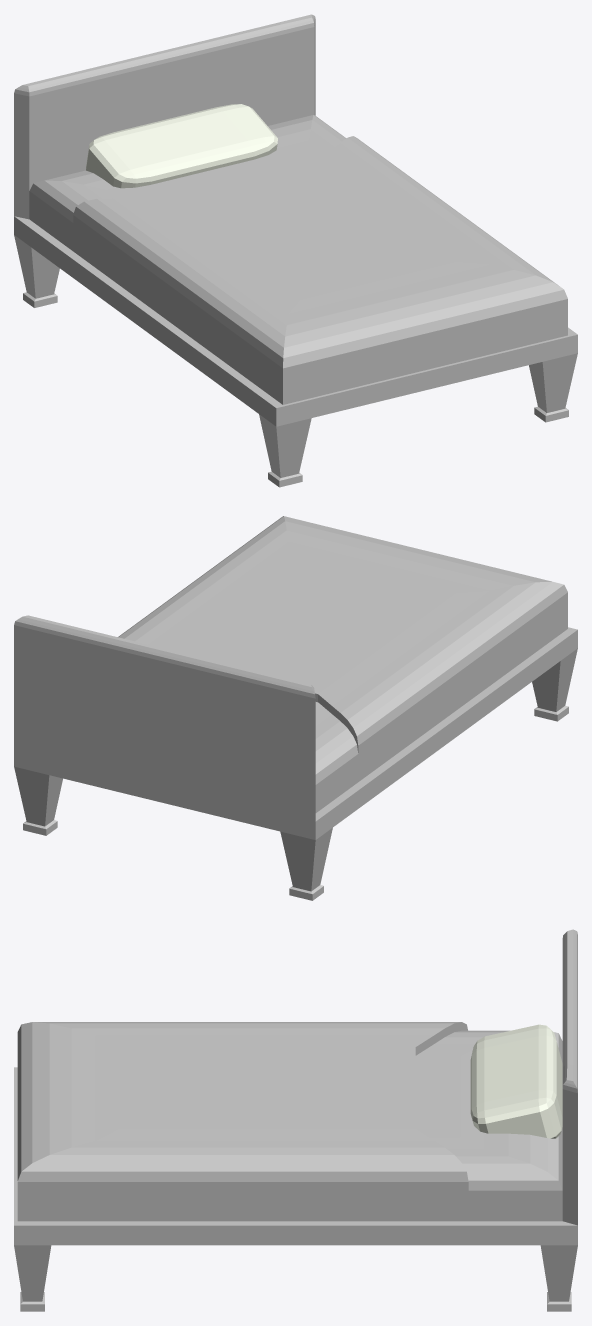
The model's file is Bed.fbx.
3 renders of one model, top to bottom at view 1: azimuth 30°, elevation 25°; view 2: azimuth 150°, elevation 25°; view 3: azimuth 270°, elevation 25°, orthographic. The views are drawn at different scales.
Parts seen in each view (by area): view 1: Cube.002; view 2: Cube.002; view 3: Cube.002.
Boxes of the visible parts, x1,y1,x2,y2 form: Cube.002: [14, 14, 577, 487]; Cube.002: [14, 516, 577, 900]; Cube.002: [14, 929, 577, 1311].
Size of the model in its own units: 184 by 125 by 277.
